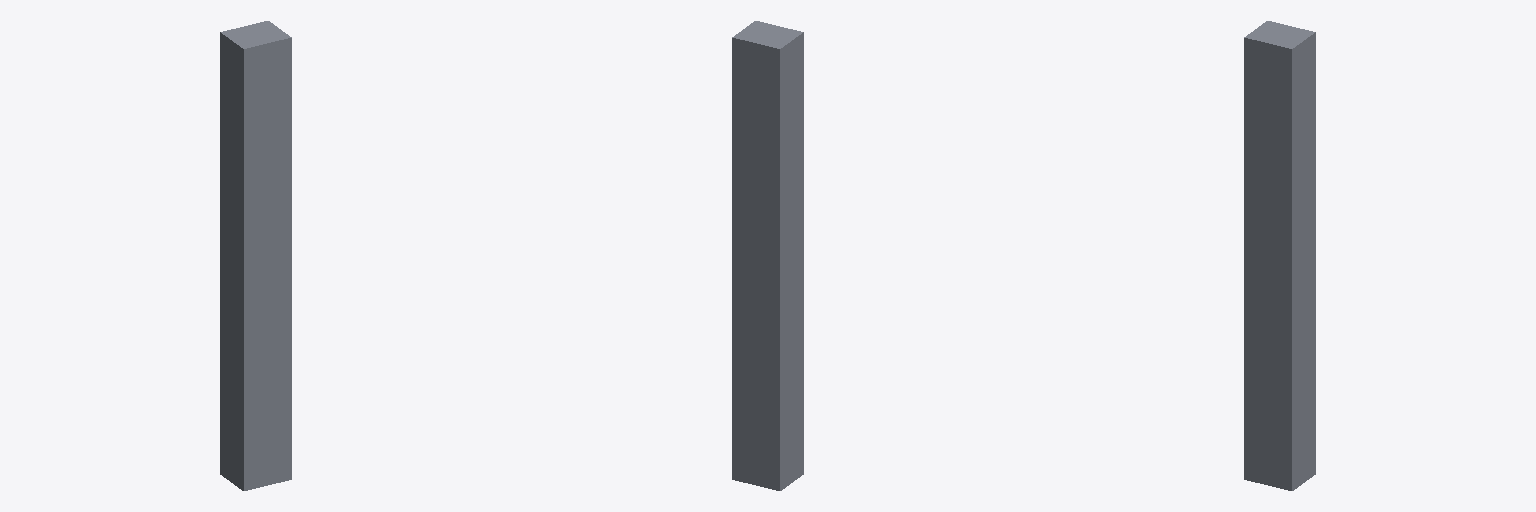
The robot description file, URDF, robot "artmanip_knife_000":
<?xml version='1.0' encoding='utf-8'?>
<robot name="artmanip_knife_000"><link name="link_0"><inertial><mass value="0.028566439995198988" /><inertia ixx="4.252073226570198e-05" iyy="4.2682500240017306e-05" izz="9.279026809368584e-07" ixy="0" ixz="0" iyz="0" /></inertial><visual><geometry><box size="0.01512847640983165 0.012685282197029768 0.1330447663196025" /></geometry><material name="link_0_color"><color rgba=".58 .60 .64 1" /></material></visual><collision><geometry><box size="0.01512847640983165 0.012685282197029768 0.1330447663196025" /></geometry></collision></link><link name="link_1"><inertial><mass value="0.006" /><inertia ixx="4.545e-07" iyy="5e-07" izz="5.45e-08" ixy="0" ixz="0" iyz="0" /></inertial><visual><geometry><mesh filename="slider-shoulder.obj" /></geometry><material name="link_1_color"><color rgba=".12 .13 .15 1" /></material></visual><collision><geometry><mesh filename="slider-shoulder.obj" /></geometry></collision></link><joint name="slider" type="prismatic"><parent link="link_0" /><child link="link_1" /><origin xyz="-0.0008674867721804194 0.007428549070232188 0.01171661362795224" /><axis xyz="0 0 1" /><limit lower="-0.03267458688196273" upper="0.017325413118037272" effort="100" velocity="1" /><dynamics damping="1000" friction="0.001" /></joint></robot>

--- Render facts (derived) ---
3 views of the same robot in one strip: view 1: azimuth 30°, elevation 25°; view 2: azimuth 150°, elevation 25°; view 3: azimuth 330°, elevation 25° (orthographic).
Robot: artmanip_knife_000 — 2 links, 1 joints (1 prismatic); root link link_0; default pose: every joint at zero.
Links seen in each view (by area): view 1: link_0; view 2: link_0; view 3: link_0.
Boxes of the visible links, x1,y1,x2,y2 form: link_0: (220,21,291,490); link_0: (732,21,803,490); link_0: (1244,21,1315,490).
Size in the robot's own frame: 0.0151 by 0.0127 by 0.133 metres.
0 mesh visuals loaded from 1 distinct referenced files (none loaded); not drawn: 1 (reference not matched to a file when rendering).
